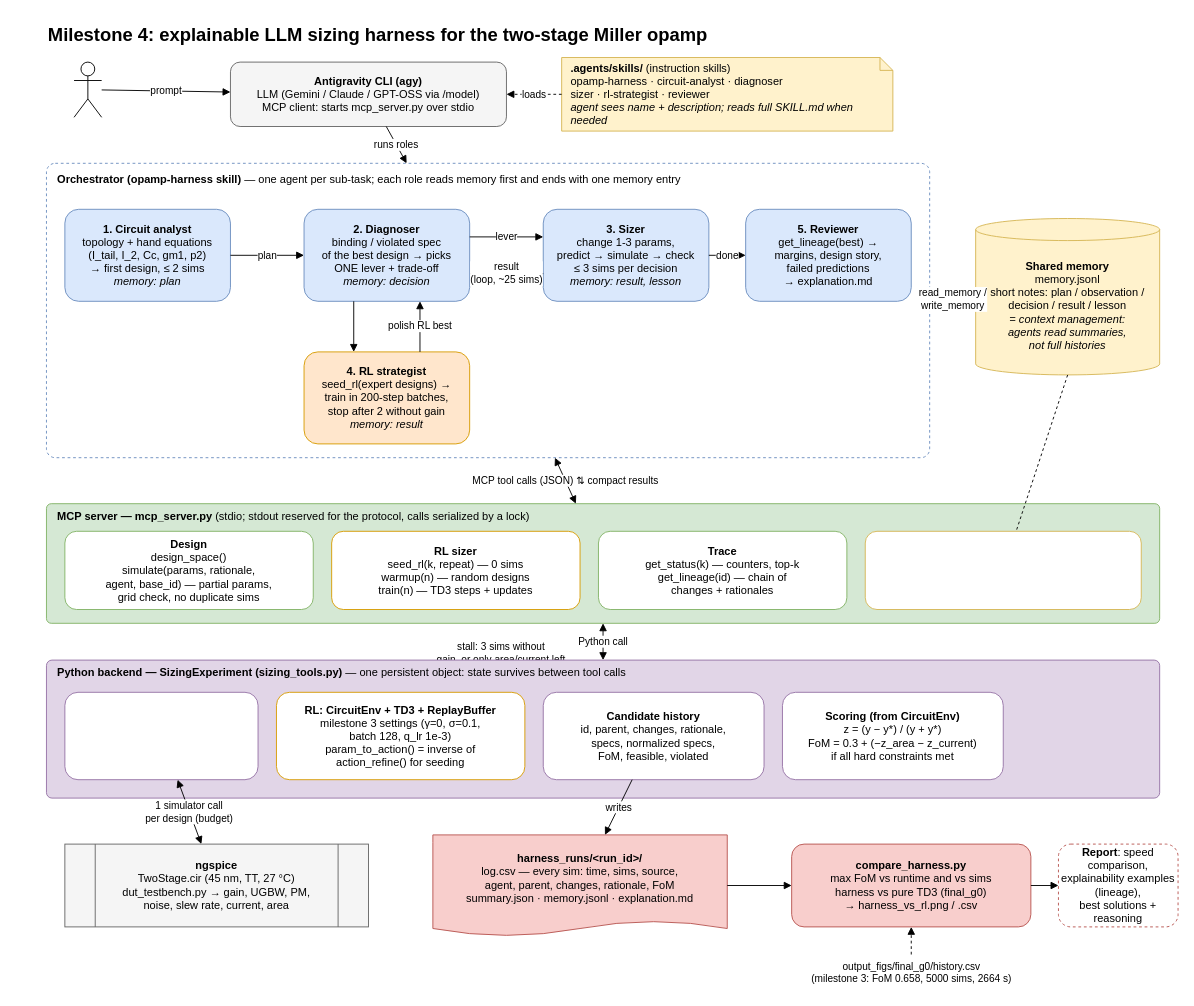
This 1194x1006 diagram has some shape labels left out. The box of each missing label's shape, as (x1, y1, x2, y2) in pixels:
Designer "Use the opamp-harness skill to size the opamp": (73, 61, 102, 117)
evaluation_env (CircuitEnv) LLM designs; does not disturb the RL episode: (64, 691, 258, 780)
Memory write_memory(agent, kind, content) read_memory(agent, kind, last_n): (864, 530, 1141, 610)
